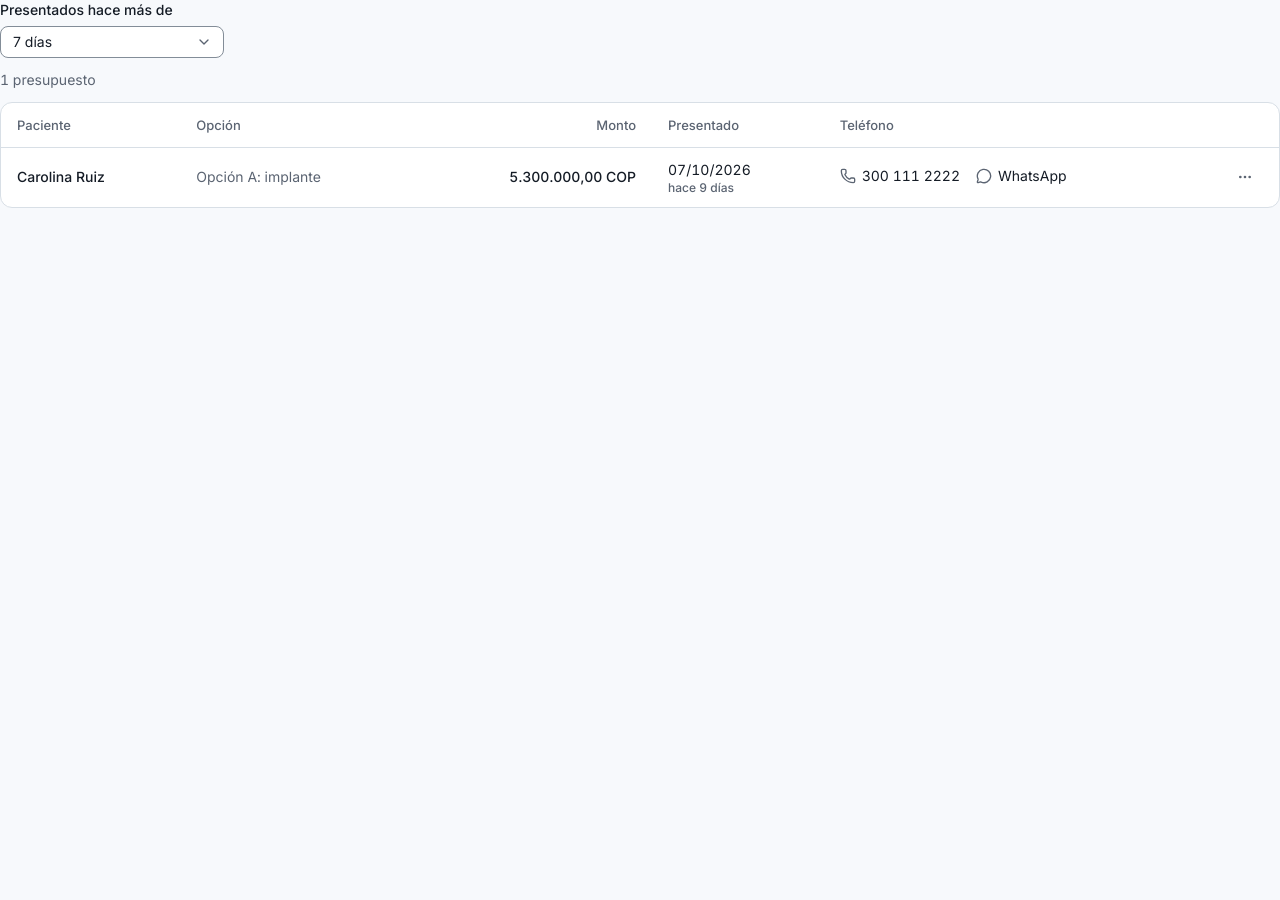
Scenario: PendingFollowUpView (DX-040) › marcar rechazado desde la fila abre el modal y, al confirmarlo, recarga
The image size is (1280, 900).
// «Marcar rechazado» vive en el «⋯» de la fila (UX v2).
Click the button named "Acciones de Carolina Ruiz" at (1245, 178), box [1227,160,1263,196]
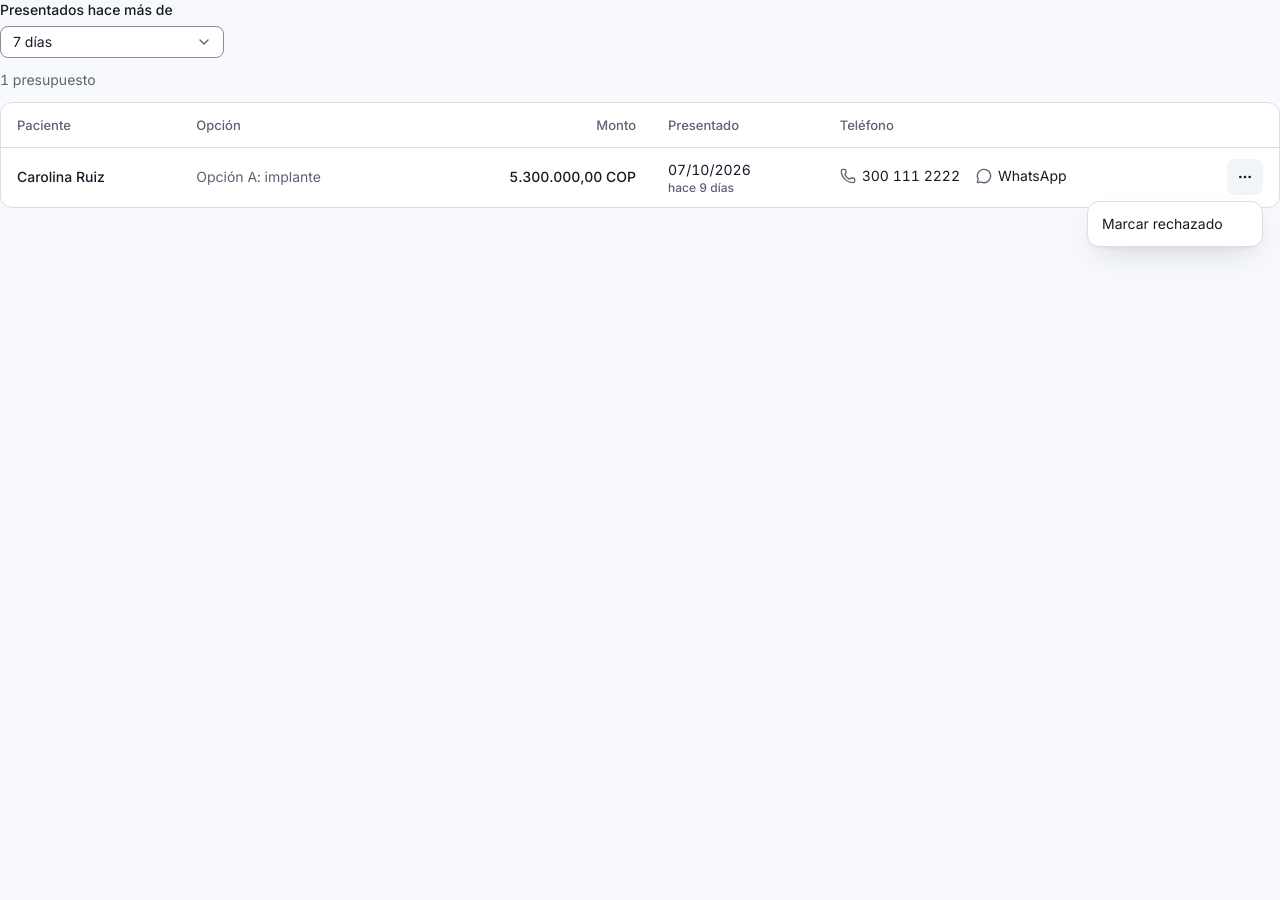
Click the menu item "Marcar rechazado" at (1162, 224), box [1102,215,1223,232]
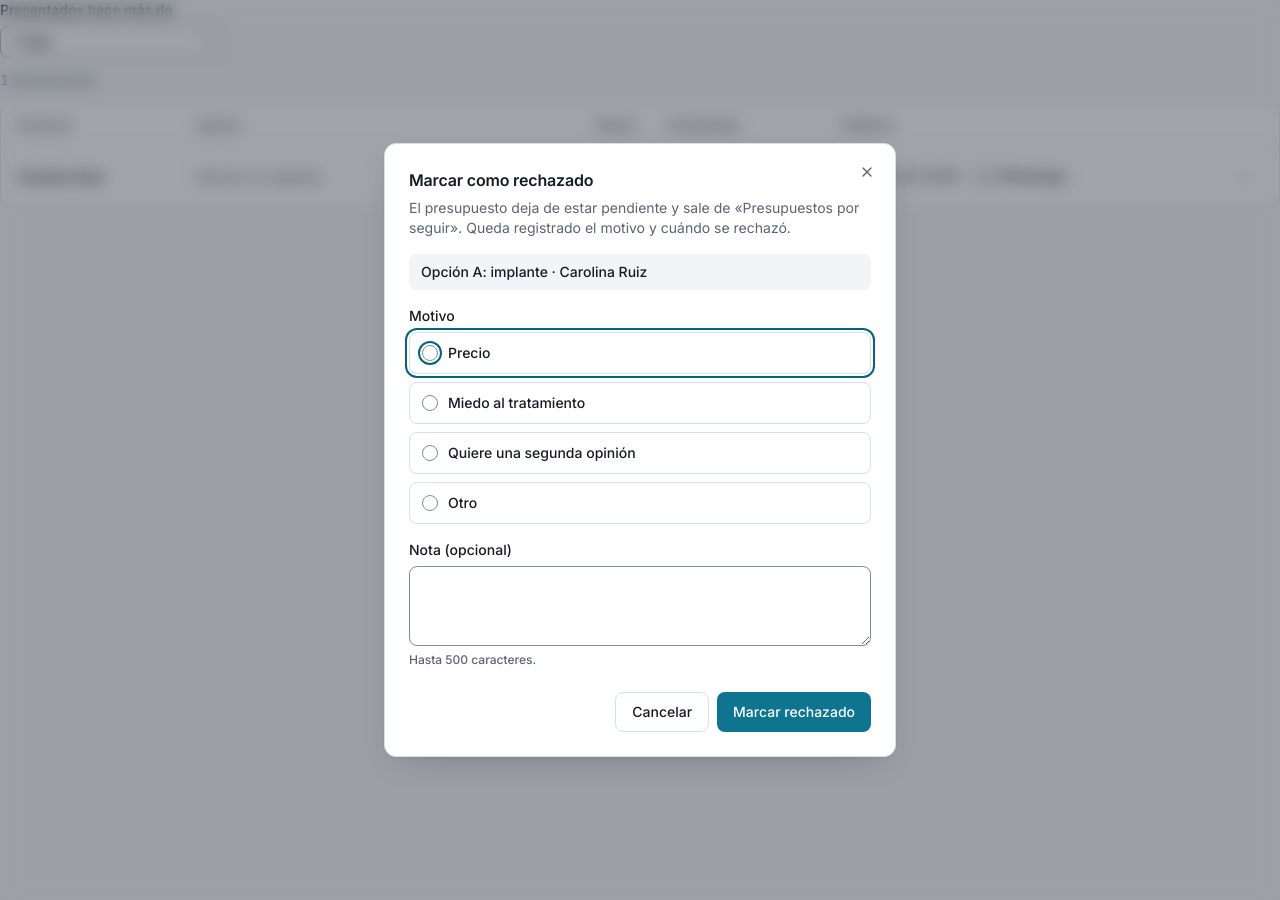
Check: the text "Opción A: implante · Carolina Ruiz" is shown, box [409,254,871,290]
Click the radio button labelled "Quiere una segunda opinión" at (430, 453), box [422,445,438,461]
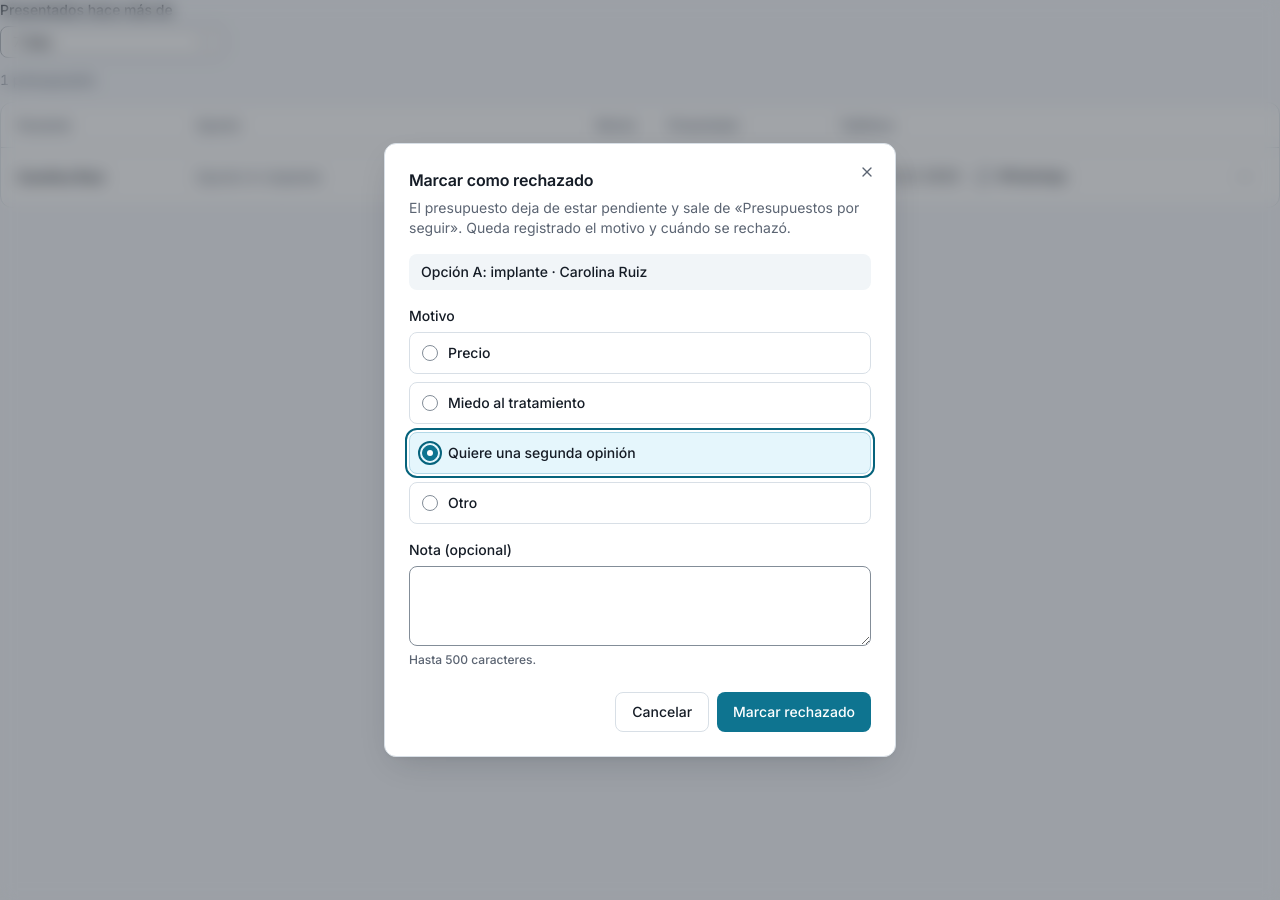
Click the button "Marcar rechazado" at (794, 712), box [717,692,871,732]
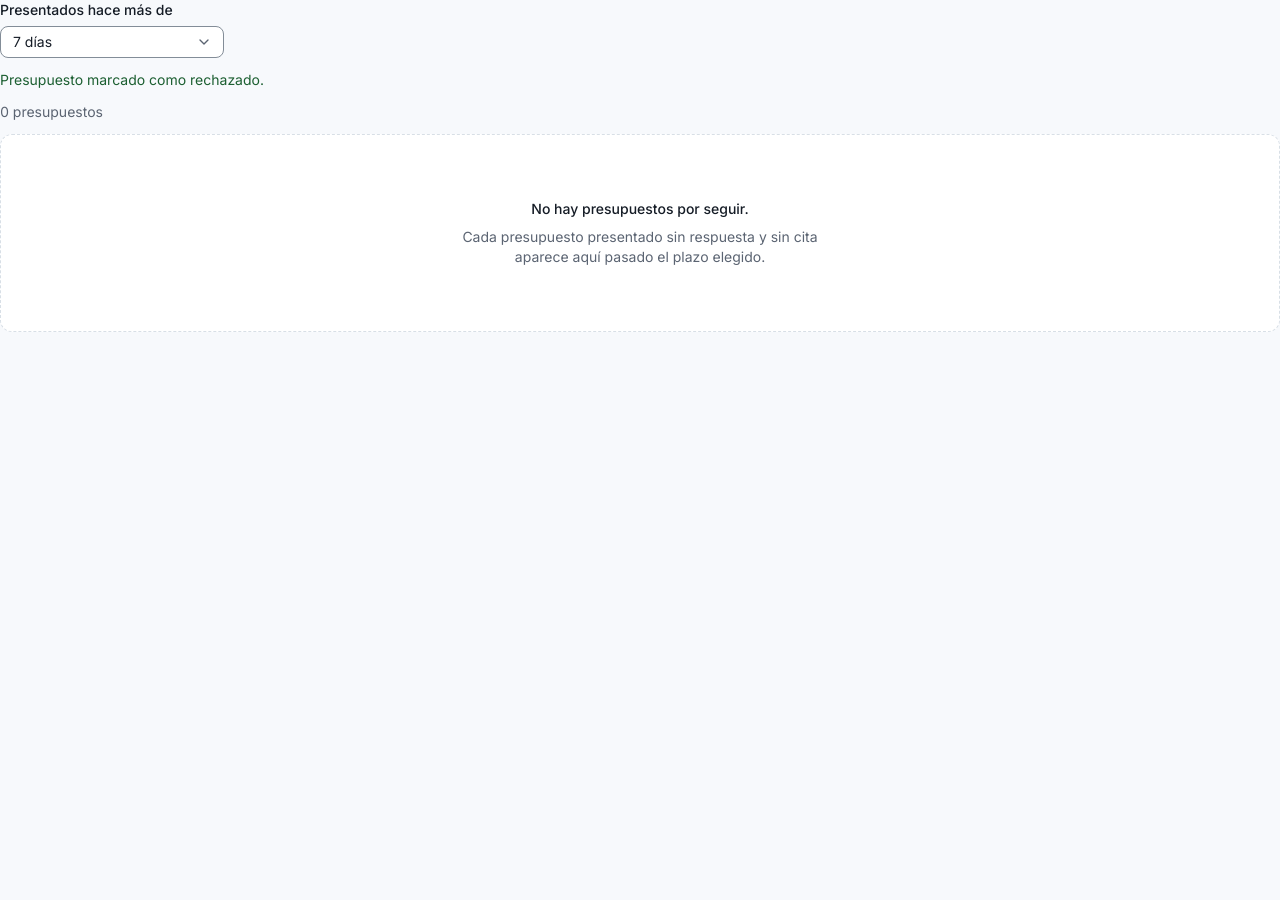
Check: the text "No hay presupuestos por seguir." is shown, box [531,199,749,219]
